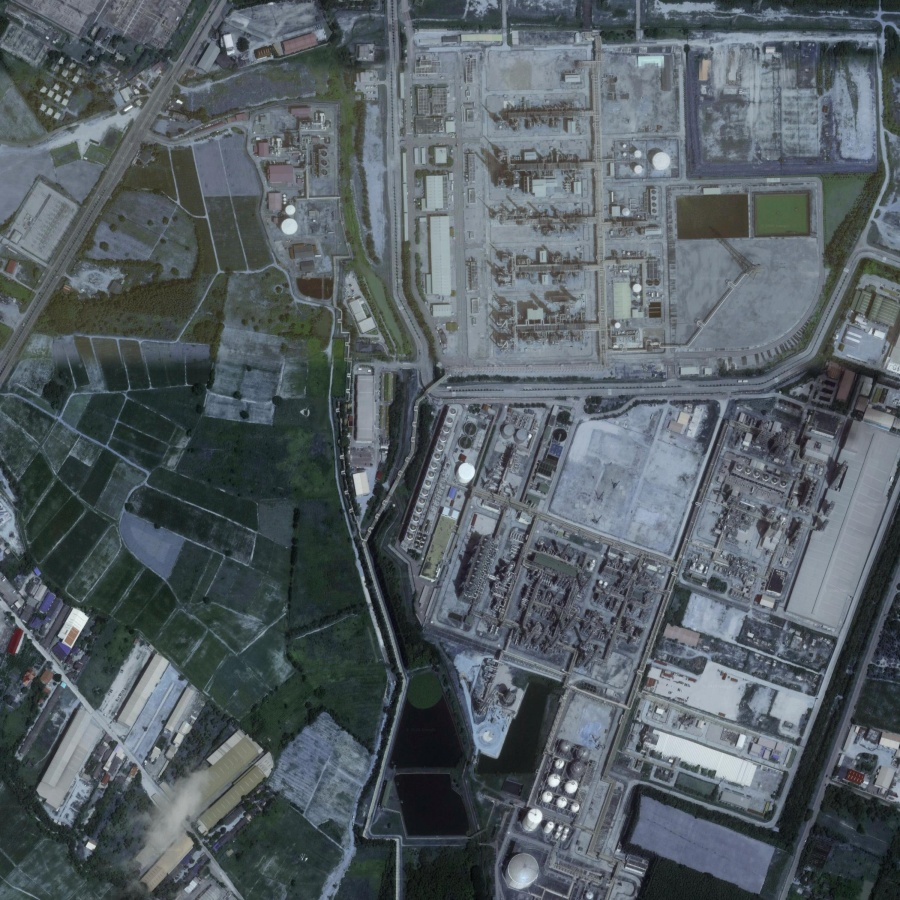PowerPlant: (478, 80, 672, 268)
